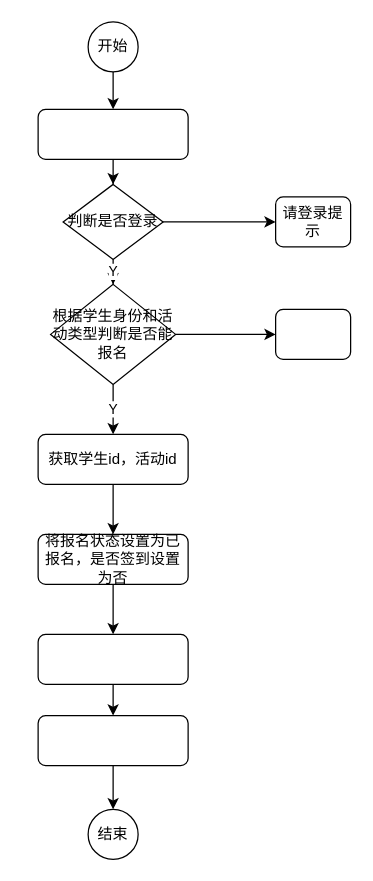
The diagram is 373 pixels wide and 881 high, and some of its shapes have lost their labels. The centre of each missing label's shape, as x and y in pixels:
"将stuId,actId,isSign,joinStatus写入stu_act表" belongs at pixel 112 658.
"根据actId更新活动表的报名数+1" belongs at pixel 112 740.
"点击报名" belongs at pixel 112 133.
"身份不满足提示" belongs at pixel 312 333.
